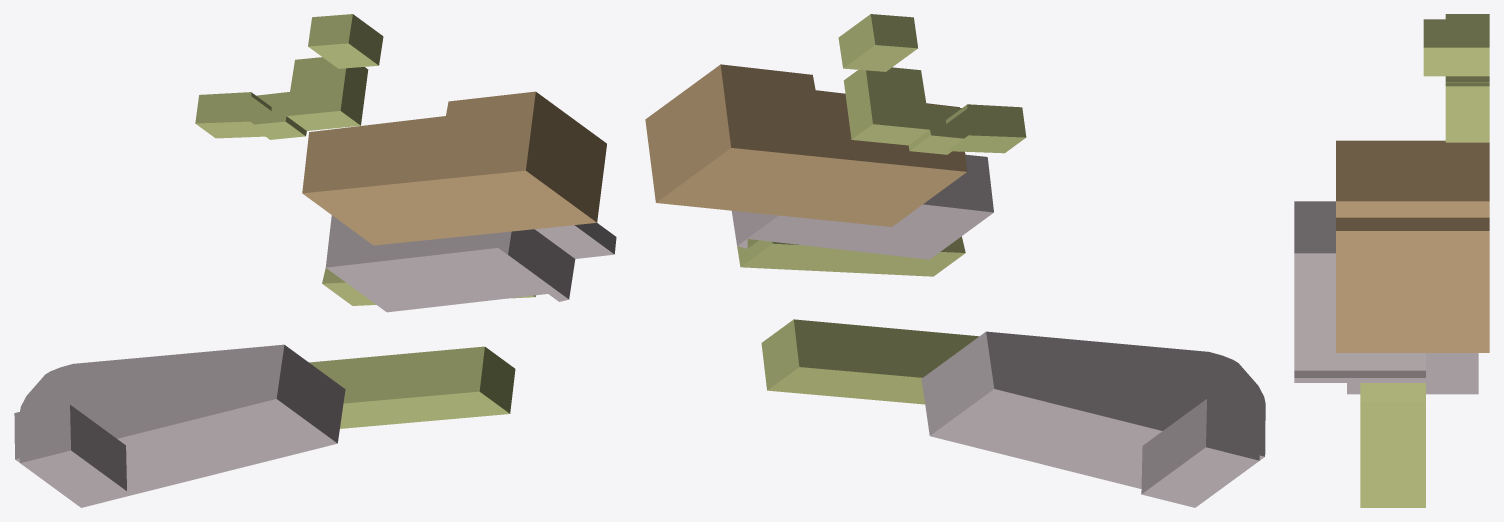
3 renders of one model, left to right at view 1: azimuth 30°, elevation 25°; view 2: azimuth 150°, elevation 25°; view 3: azimuth 270°, elevation 25°, orthographic. The views are drawn at different scales.
Parts seen in each view (by area): view 1: 0_0_1_2_0_0_1_3; view 2: 0_0_1_2_0_0_1_3; view 3: 0_0_1_2_0_0_1_3.
Boxes of the visible parts, <box> form: 0_0_1_2_0_0_1_3: <box>14,14,616,507</box>; 0_0_1_2_0_0_1_3: <box>645,14,1265,507</box>; 0_0_1_2_0_0_1_3: <box>1294,14,1489,507</box>.
Bounding box in the file's own units: 88.65 × 62.79 × 26.7.
